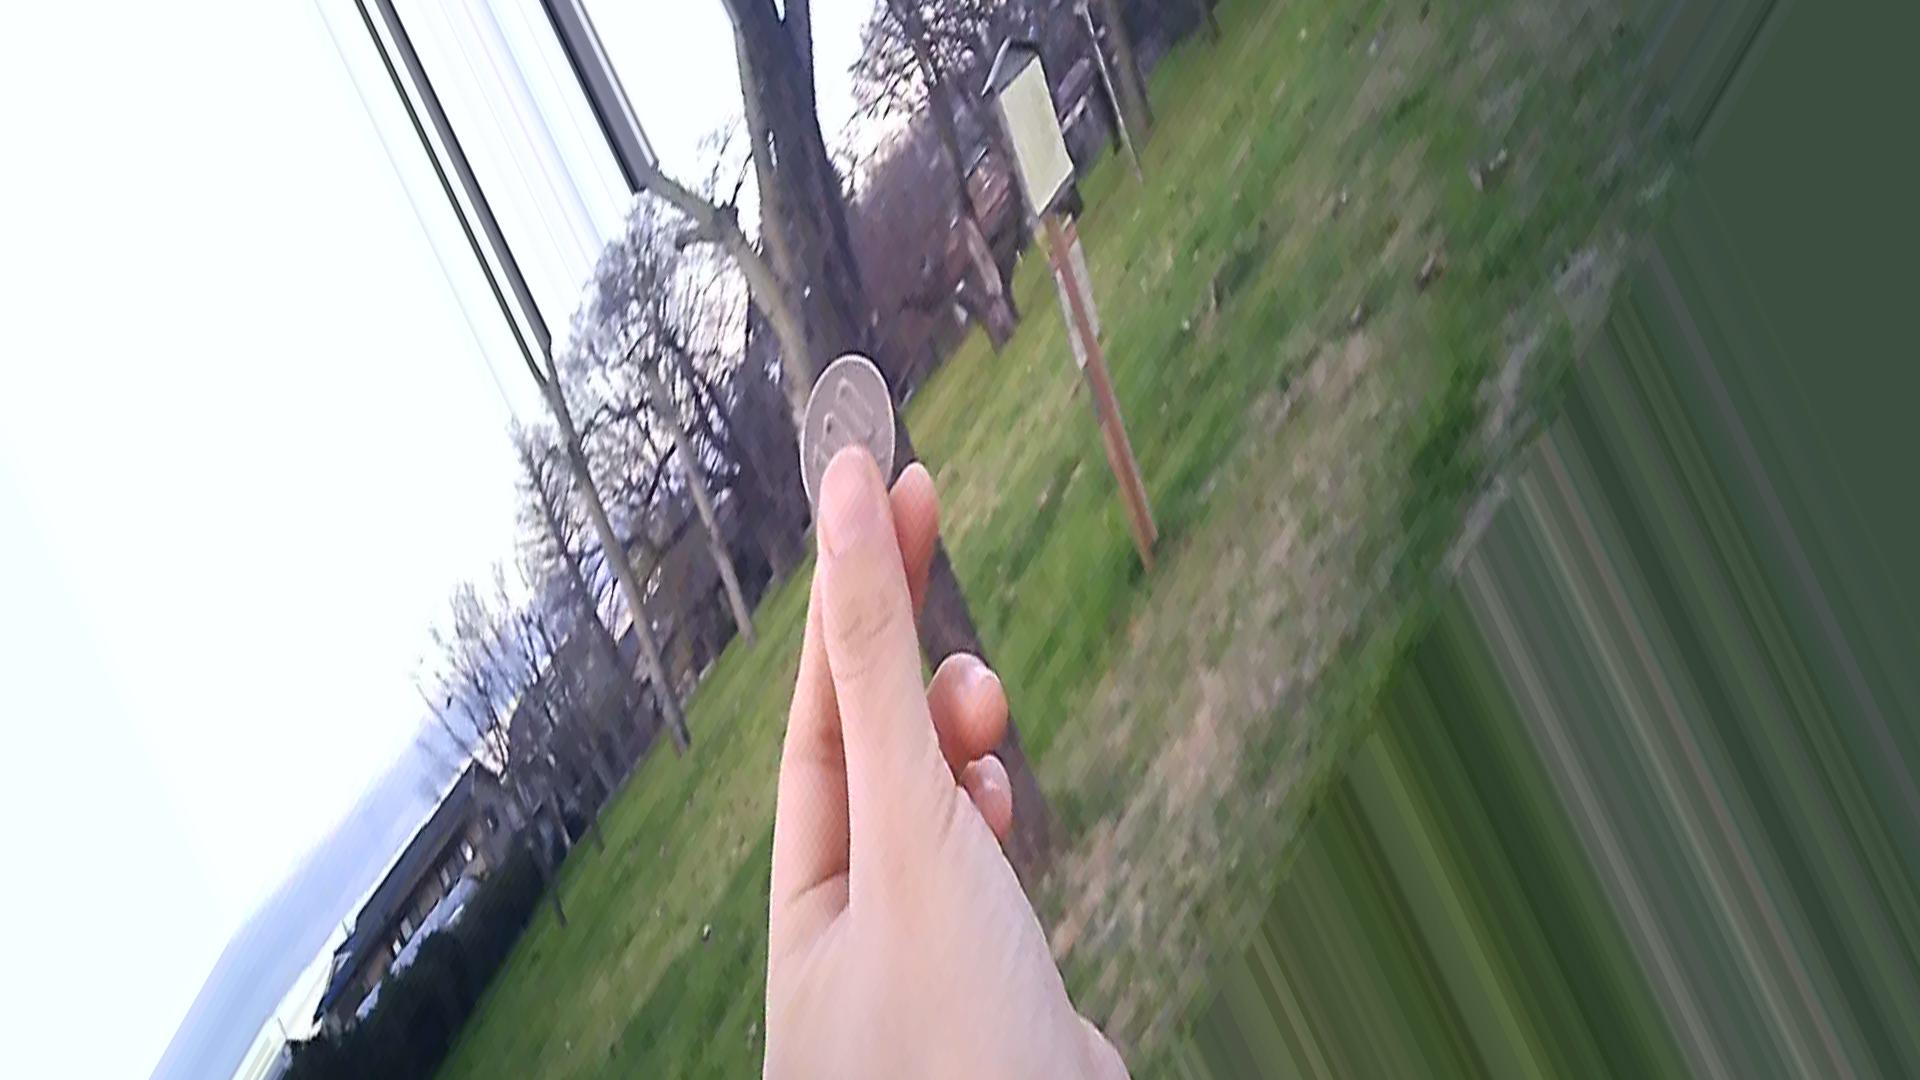100 Yen: (781, 342, 902, 506)
